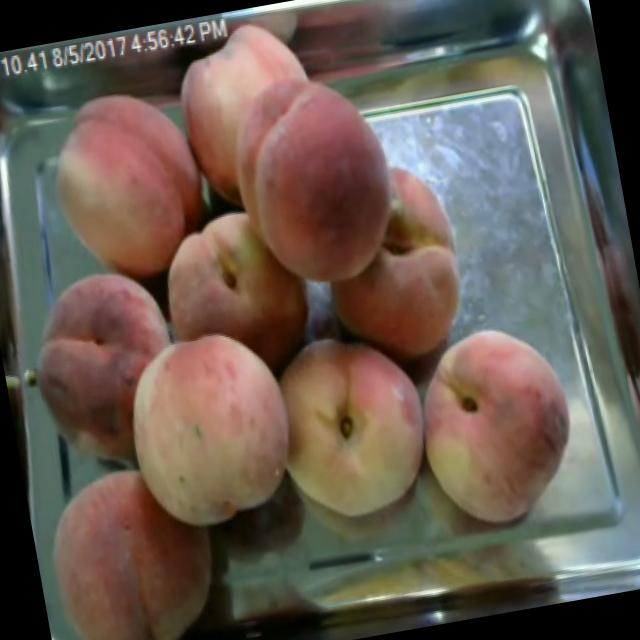Fruit: (88, 304, 326, 560), (0, 246, 213, 518), (207, 55, 426, 312), (394, 307, 602, 546), (20, 432, 249, 640), (252, 308, 450, 540), (30, 70, 220, 302), (304, 142, 486, 380), (140, 186, 334, 395)
